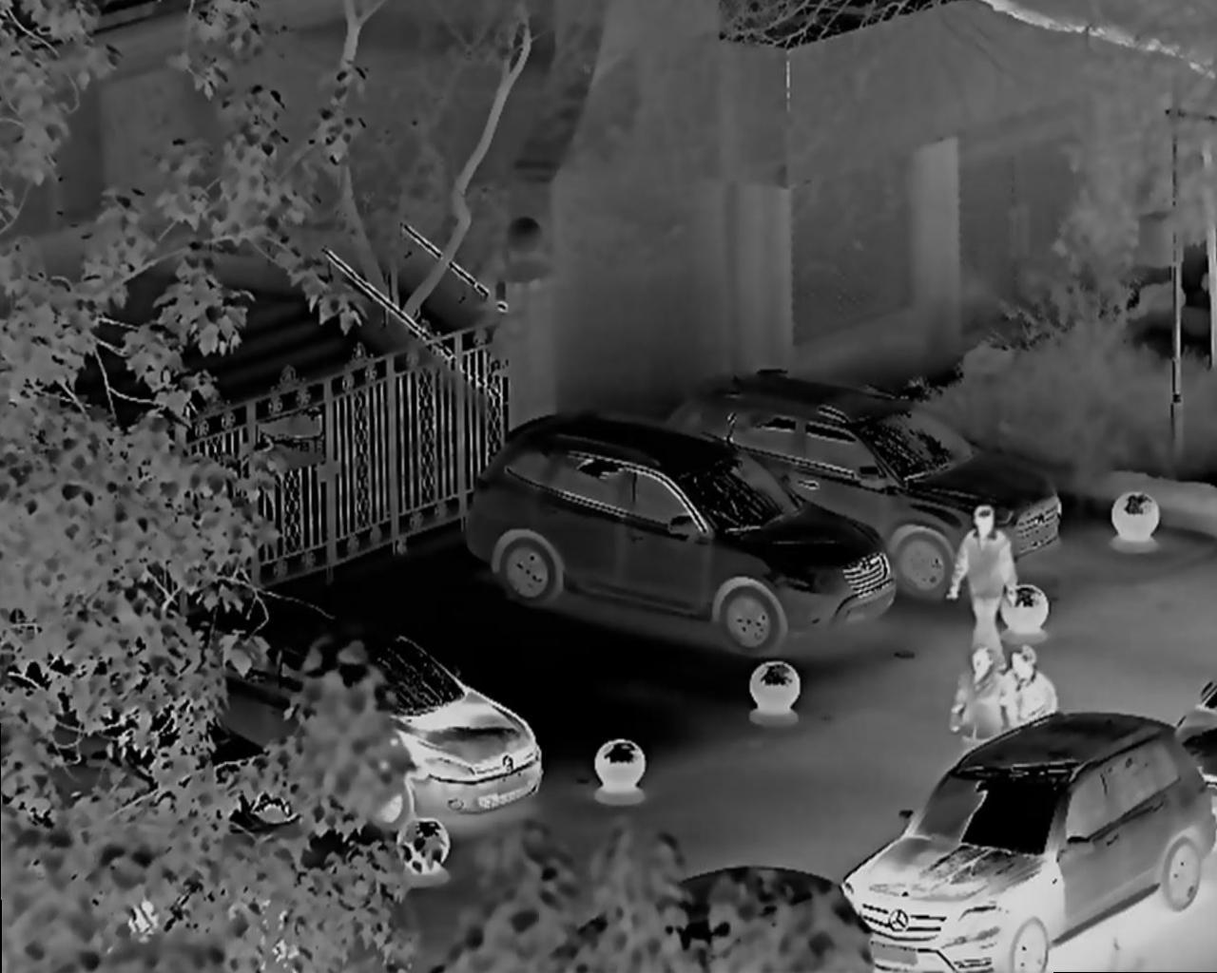person: (939, 511, 1024, 649), (943, 647, 1007, 770), (997, 631, 1063, 746)
